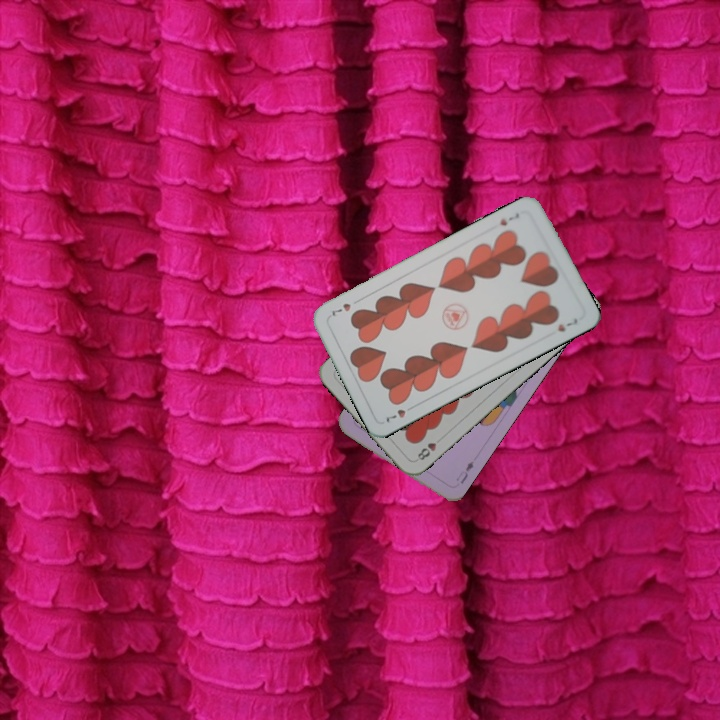EU: (452, 457, 477, 486)
H7: (380, 401, 418, 425), (496, 209, 522, 228)
H8: (413, 438, 439, 463)
